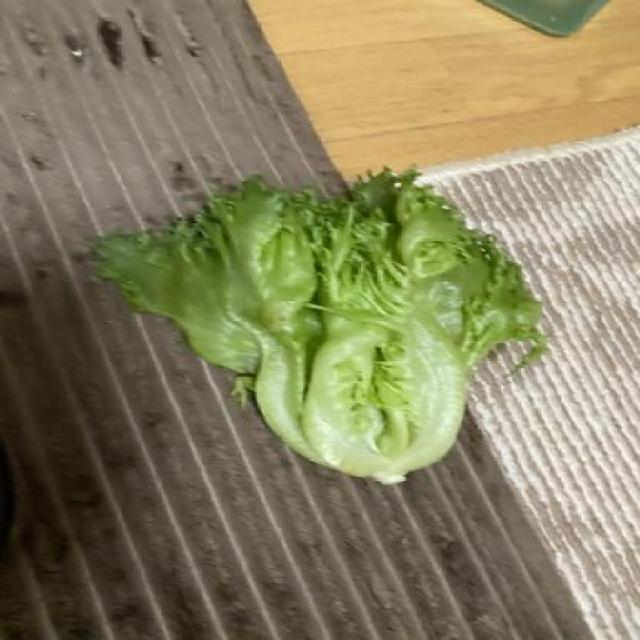Lettuce: (89, 170, 545, 492)
